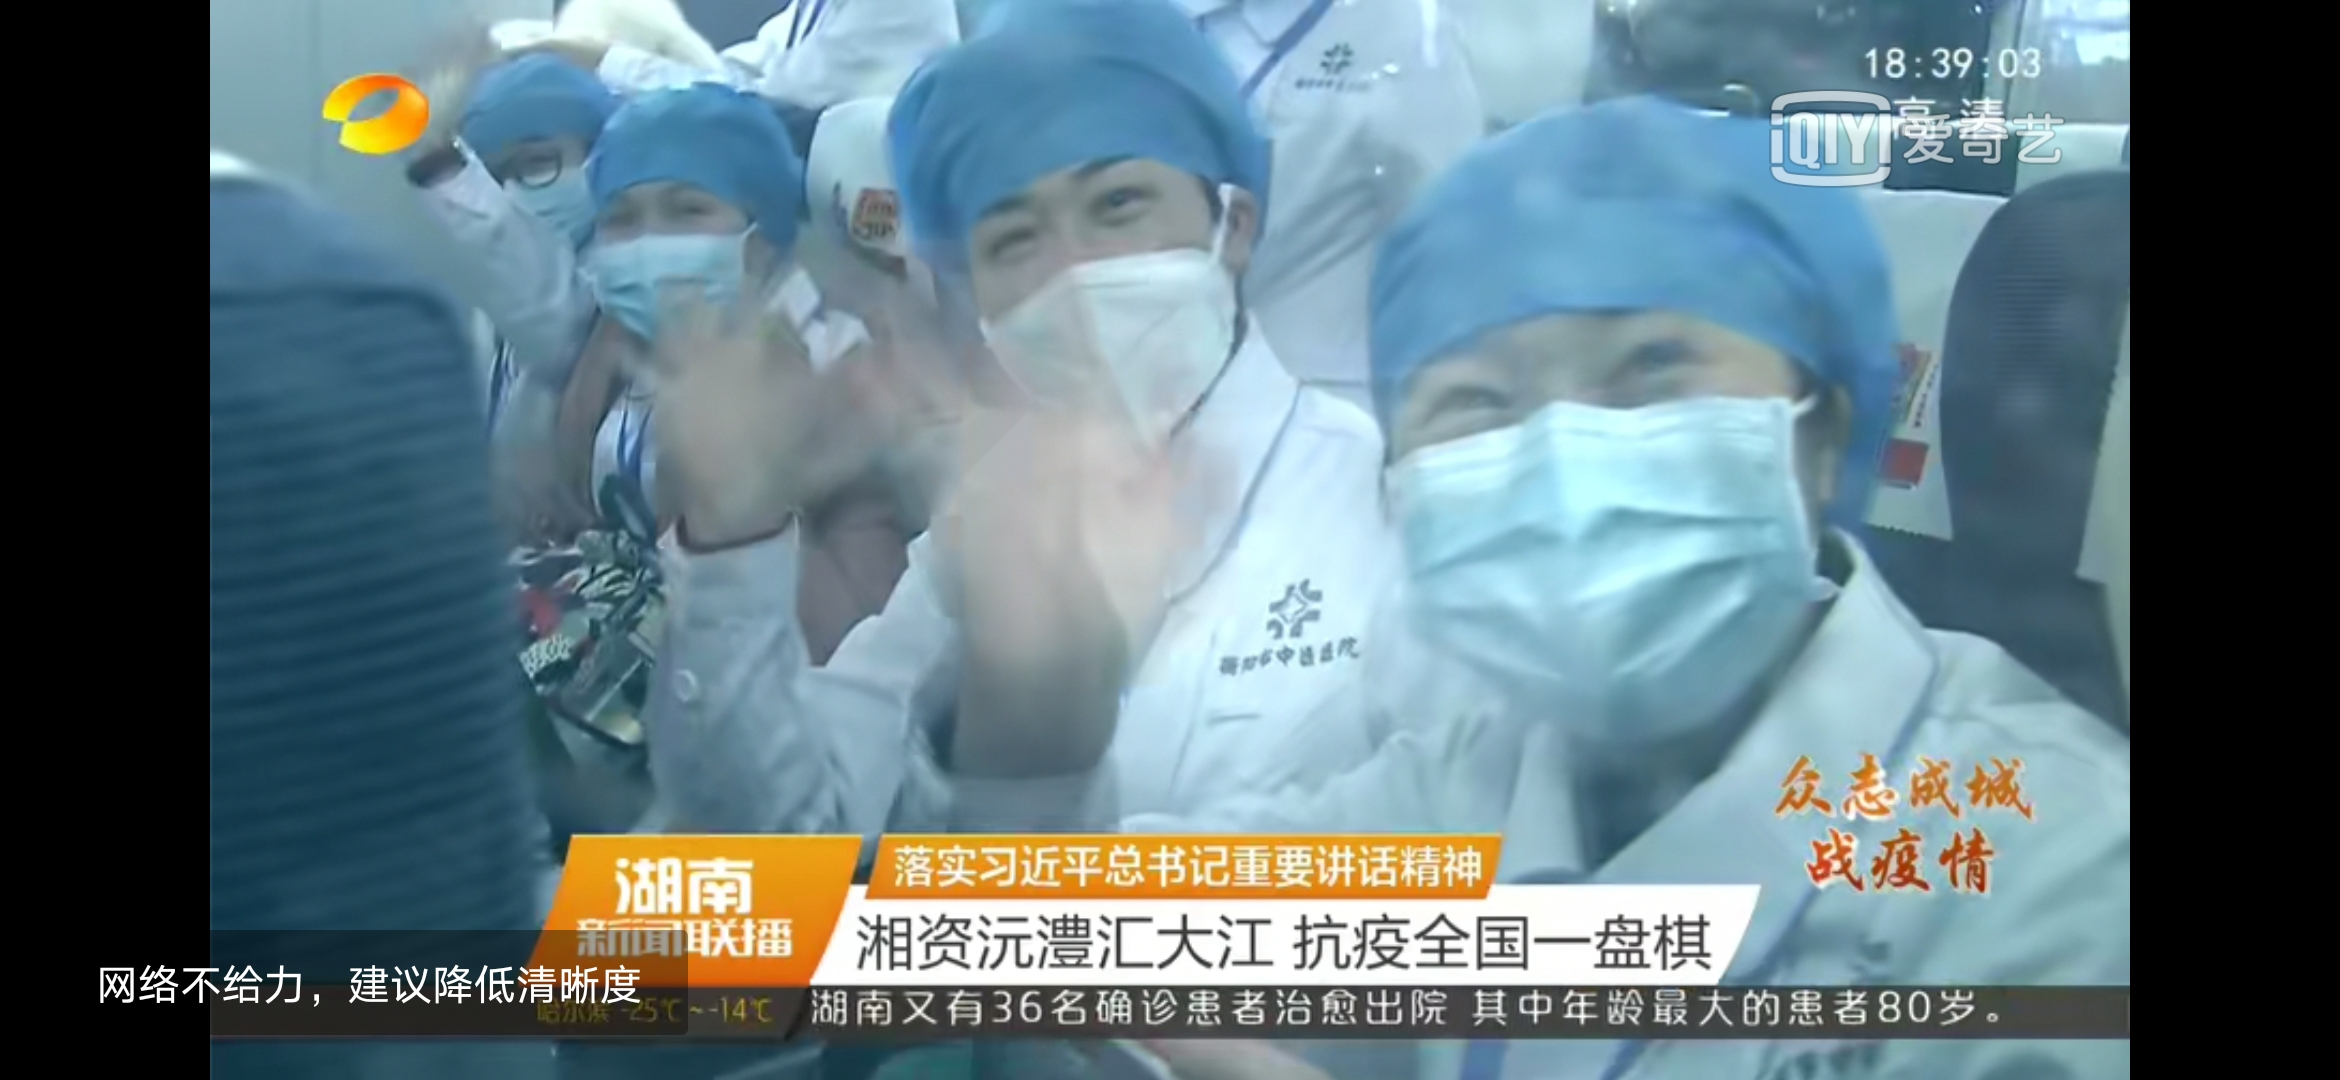correctlyWear: (1383, 360, 1833, 729), (966, 164, 1255, 439), (570, 179, 751, 357), (482, 151, 598, 254)
